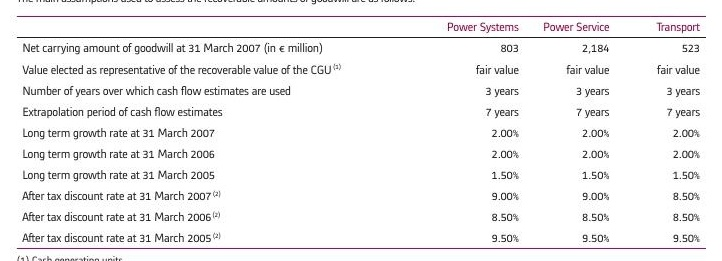table: (0, 0, 722, 261)
